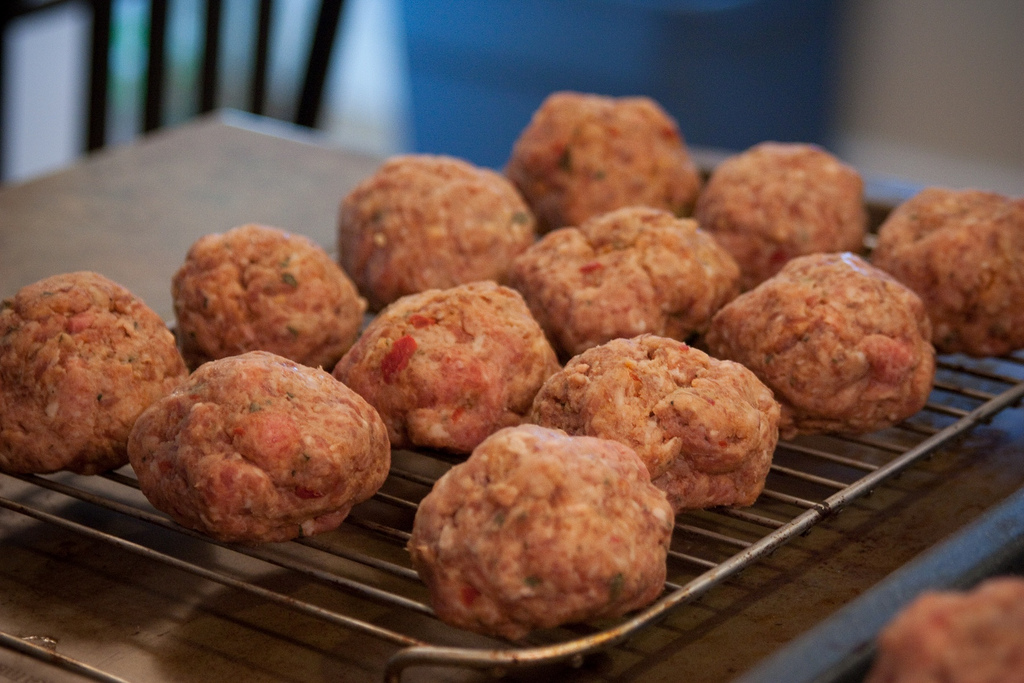meatballs: (132, 360, 400, 557), (416, 430, 677, 631), (530, 338, 798, 505), (698, 247, 942, 427), (9, 270, 184, 508), (514, 206, 762, 373), (340, 276, 562, 446), (333, 147, 532, 301), (510, 86, 703, 235), (177, 231, 368, 367), (701, 131, 869, 285), (875, 185, 1024, 353)
